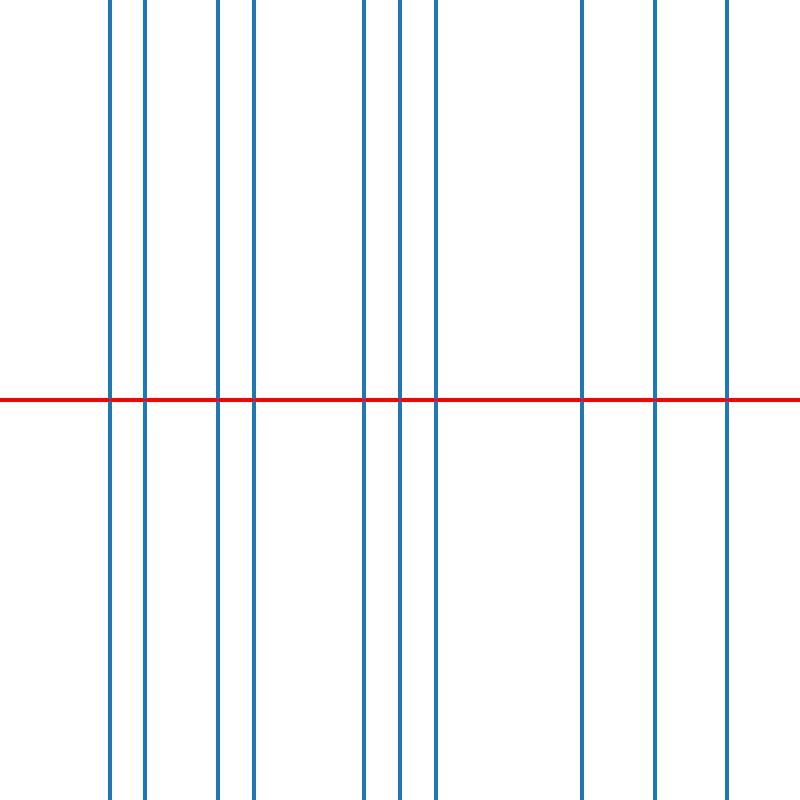root: (141, 396, 149, 404), (250, 396, 258, 404), (432, 396, 440, 404), (650, 396, 658, 404), (105, 396, 112, 404), (396, 396, 403, 404), (723, 396, 730, 404), (214, 396, 221, 404), (578, 396, 585, 404), (360, 396, 367, 404)
